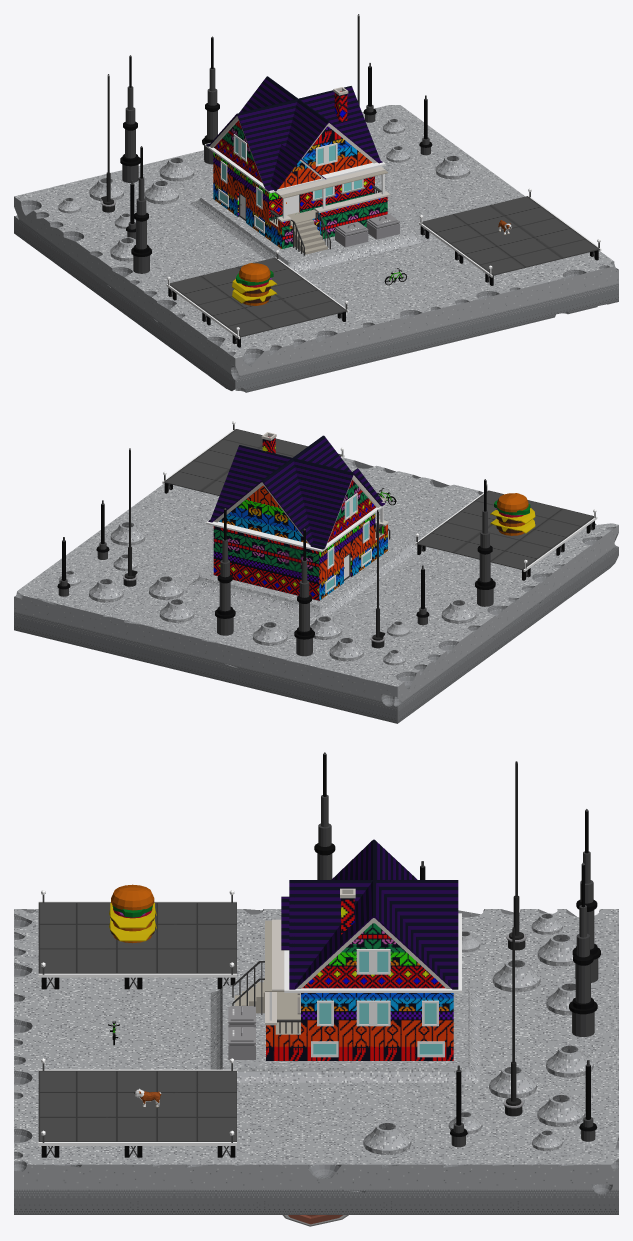
3 renders of one model, top to bottom at view 1: azimuth 30°, elevation 25°; view 2: azimuth 150°, elevation 25°; view 3: azimuth 270°, elevation 25°, orthographic. The views are drawn at different scales.
Parts seen in each view (by area): view 1: Cube.027, Cube.966, Cube.026, Cube.025, Cube.028, OBJRANDOM_HAMBURGER, Cylinder.021, Cylinder.020, Cylinder.017, Cube.029, Cube.030, Cylinder.027 (+4 smaller); view 2: Cube.027, Cube.966, Cube.025, Cube.028, Cube.026, OBJRANDOM_HAMBURGER, Cylinder.020, Cylinder.017, Cylinder.021, Cylinder.029, Cylinder.025, Cylinder.031 (+7 smaller); view 3: Cube.027, Cube.966, Cube.026, Cube.025, Cube.028, OBJRANDOM_HAMBURGER, Cylinder.017, Cylinder.020, Cylinder.021, Cylinder.033, Cylinder.031, Cylinder.029 (+9 smaller).
Part boxes in pixels (box(x1,y1,x2,y2)): Cube.027: box(14, 105, 618, 392); Cube.966: box(204, 76, 390, 255); Cube.026: box(419, 188, 601, 285); Cube.025: box(166, 250, 348, 347); Cube.028: box(190, 194, 422, 272); OBJRANDOM_HAMBURGER: box(232, 263, 277, 305); Cylinder.021: box(131, 146, 151, 273); Cylinder.020: box(120, 55, 140, 182); Cylinder.017: box(202, 36, 219, 164); Cube.029: box(335, 221, 368, 247); Cube.030: box(366, 214, 399, 239); Cylinder.027: box(159, 157, 194, 181); Cube.027: box(14, 458, 618, 723); Cube.966: box(206, 432, 390, 600); Cube.025: box(415, 483, 597, 580); Cube.028: box(189, 535, 417, 617); Cube.026: box(162, 421, 344, 495); OBJRANDOM_HAMBURGER: box(490, 493, 535, 535); Cylinder.020: box(294, 528, 314, 656); Cylinder.017: box(215, 508, 235, 635); Cylinder.021: box(475, 479, 495, 606); Cylinder.029: box(159, 598, 194, 622); Cylinder.025: box(441, 599, 476, 623); Cylinder.031: box(89, 578, 123, 602); Cube.027: box(14, 909, 618, 1214); Cube.966: box(232, 839, 461, 1060); Cube.026: box(38, 1058, 236, 1157); Cube.025: box(38, 890, 236, 989); Cube.028: box(210, 985, 479, 1082); OBJRANDOM_HAMBURGER: box(109, 884, 156, 943); Cylinder.017: box(569, 862, 597, 1036); Cylinder.020: box(572, 809, 600, 982); Cylinder.021: box(314, 752, 335, 879); Cylinder.033: box(363, 1122, 411, 1154); Cylinder.031: box(537, 1094, 584, 1126); Cylinder.029: box(546, 1044, 593, 1077).
Size of the model in its own units: 4000 by 2515 by 4000.
47 materials, 8 textured.
